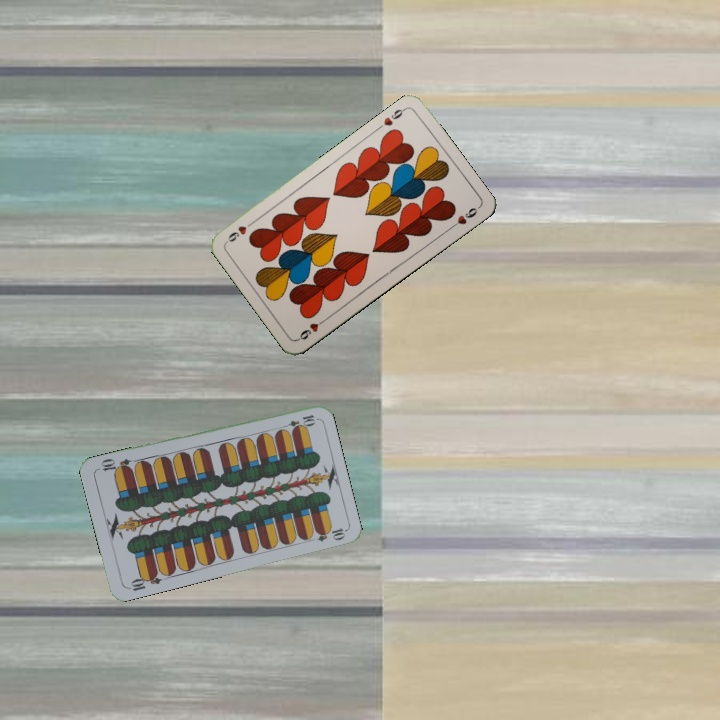E10: (124, 568, 164, 594), (278, 410, 318, 432)
H9: (294, 314, 329, 342), (379, 103, 409, 128)
